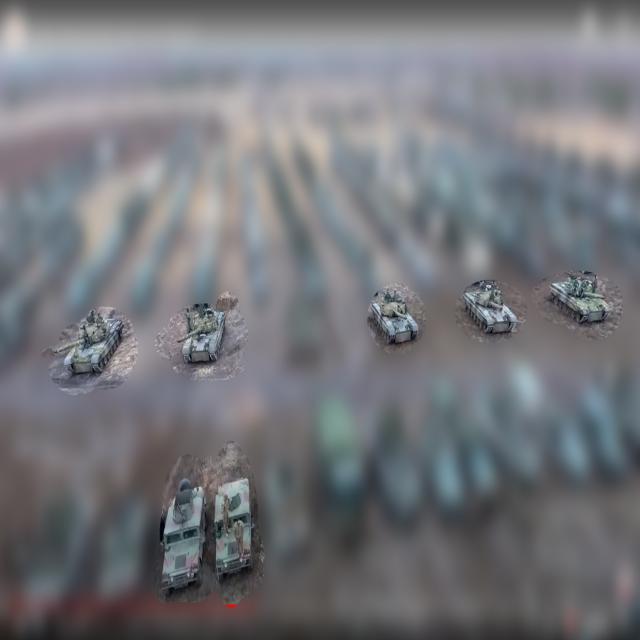tank: (54, 312, 126, 379), (548, 272, 612, 326), (176, 304, 228, 368), (460, 280, 518, 337), (369, 288, 419, 346)
